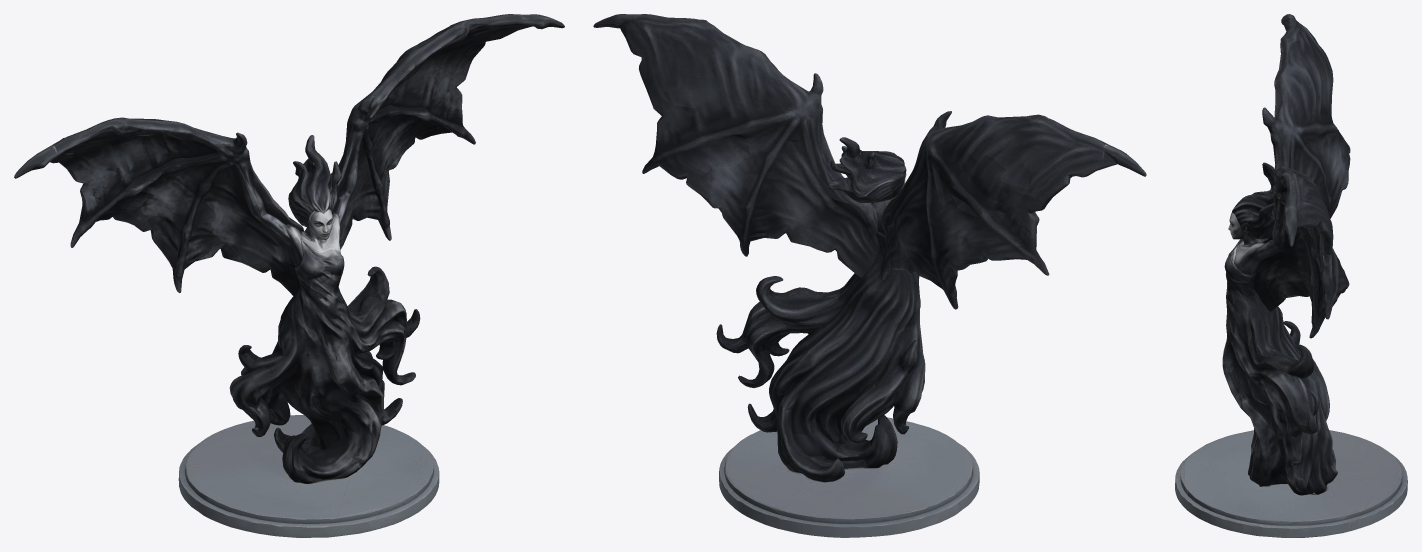
File: mara.glb
The picture shows the model from 3 angles, left to right: view 1: azimuth 30°, elevation 25°; view 2: azimuth 150°, elevation 25°; view 3: azimuth 270°, elevation 25°; orthographic projection. The views are drawn at different scales.
Visible parts, largest first — view 1: output_unwrapped; view 2: output_unwrapped; view 3: output_unwrapped.
Boxes of the visible parts, x1=… form: output_unwrapped: x1=14, y1=14, x2=564, y2=537; output_unwrapped: x1=593, y1=14, x2=1146, y2=537; output_unwrapped: x1=1175, y1=14, x2=1407, y2=537.
Size of the model in its own units: 1.9 by 1.4 by 0.7747.
Materials: 1 (1 with a texture image).
